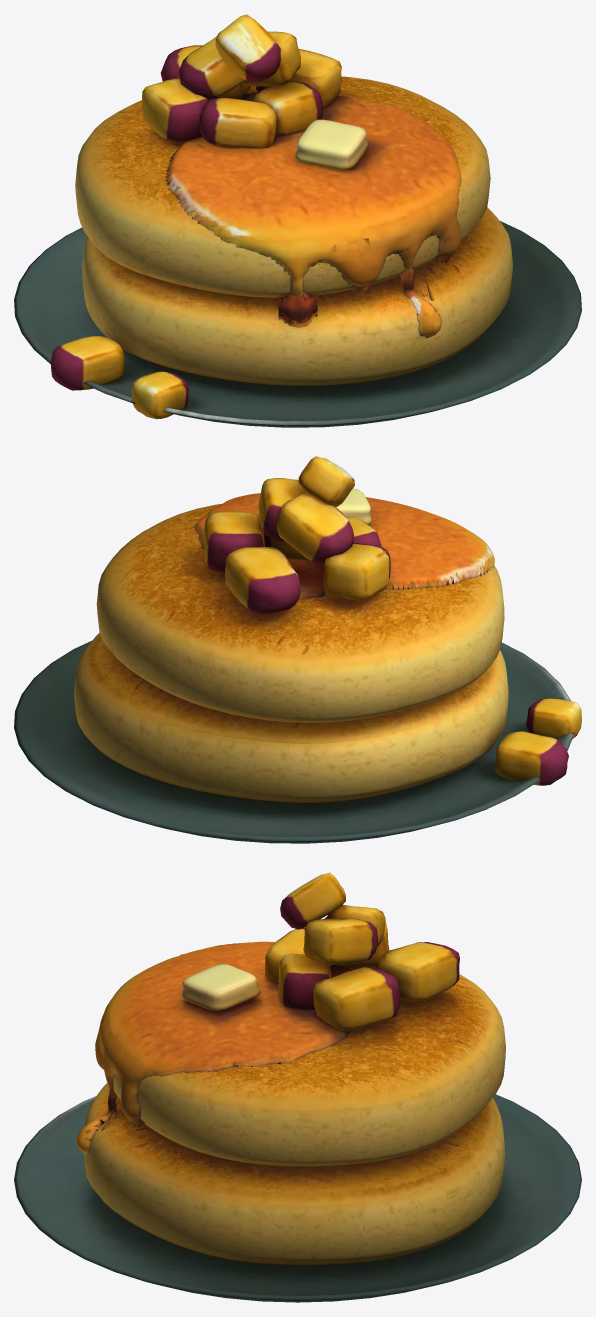
The model's file is pancake--sweetpotato-roasted.glb.
The picture shows the model from 3 angles, top to bottom: view 1: azimuth 30°, elevation 25°; view 2: azimuth 150°, elevation 25°; view 3: azimuth 270°, elevation 25°; orthographic projection.
Parts seen in each view (by area): view 1: pancake_sweetpotato-roasted; view 2: pancake_sweetpotato-roasted; view 3: pancake_sweetpotato-roasted.
Boxes of the visible parts, left/top/right/bottom form: pancake_sweetpotato-roasted: left=14, top=14, right=581, bottom=427; pancake_sweetpotato-roasted: left=14, top=456, right=581, bottom=843; pancake_sweetpotato-roasted: left=14, top=872, right=581, bottom=1302.
Size of the model in its own units: 1.16 by 0.6909 by 1.14.
Materials: 1 (1 with a texture image).
